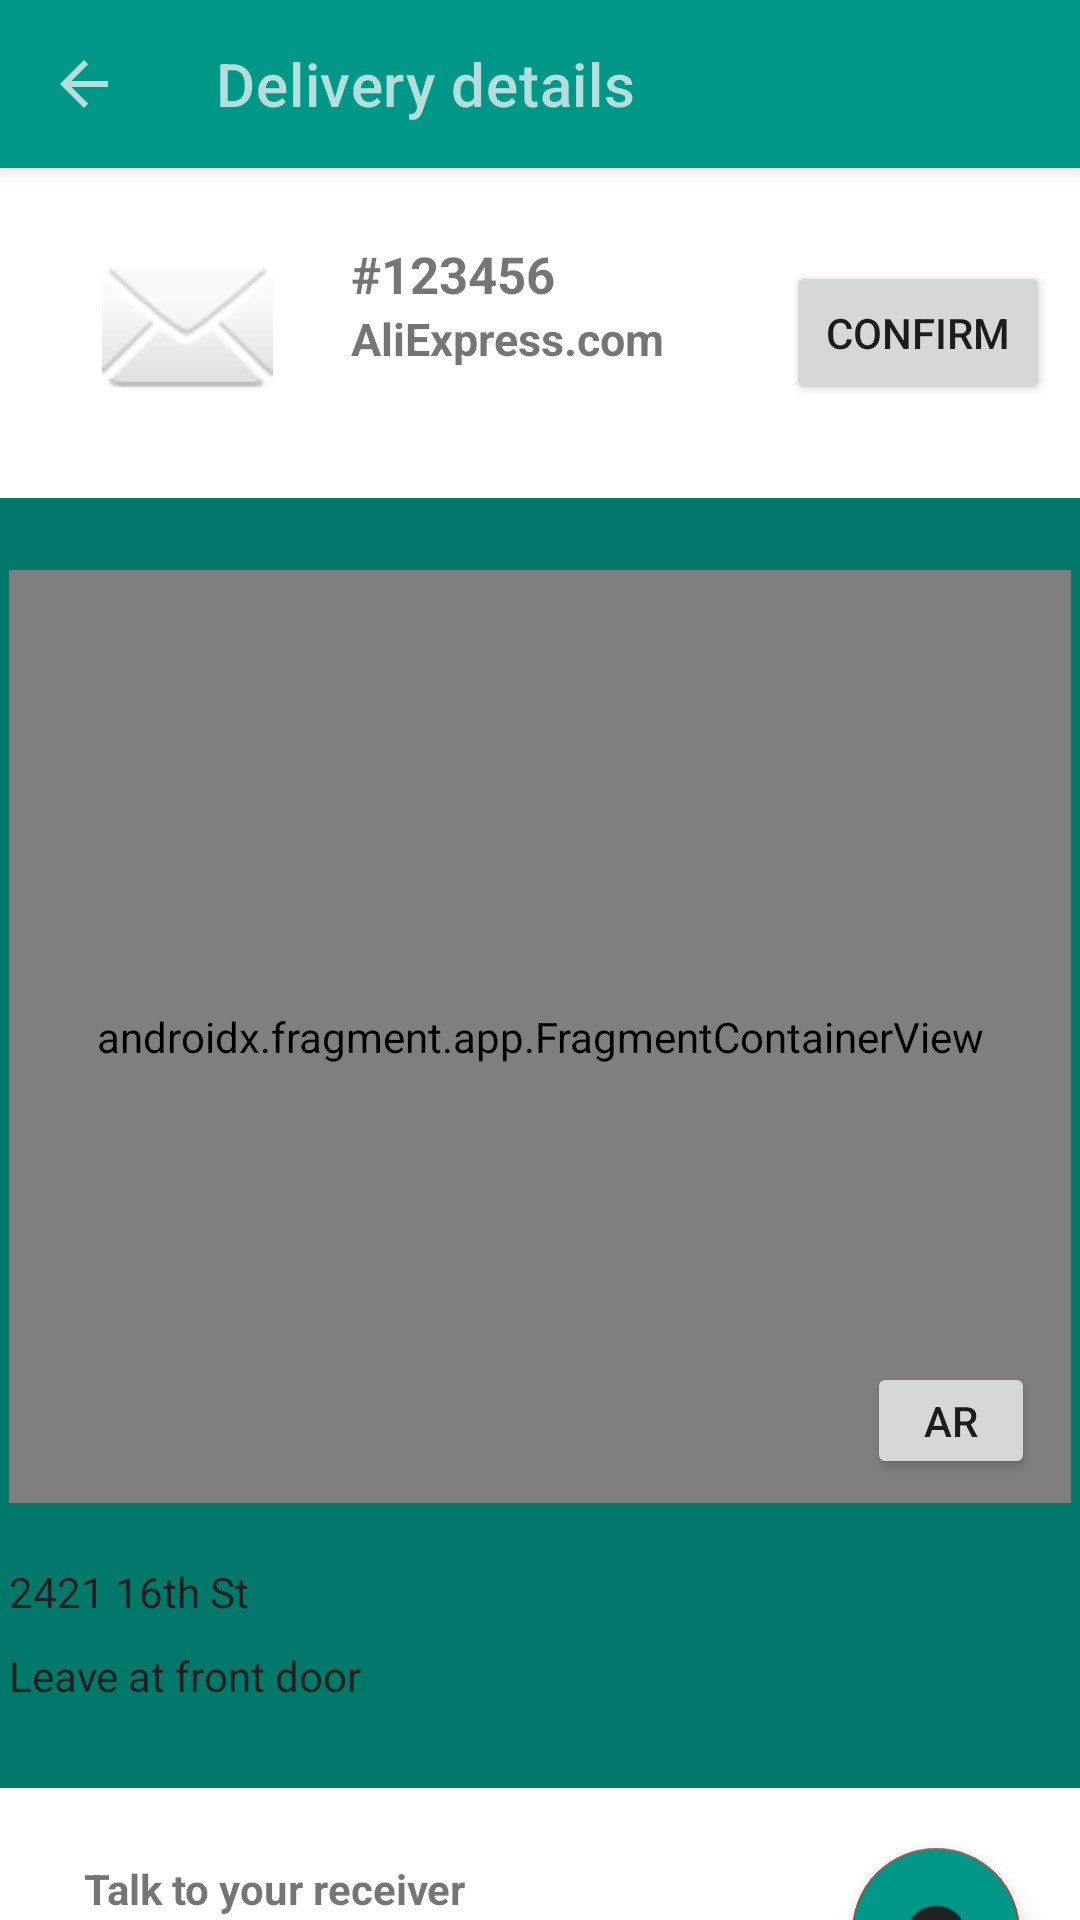

Screen size 1080w x 1920h. Icon name, then its box in pixels as box=[x1, y1, x2, y2]:
email: box=[102, 270, 273, 387]
